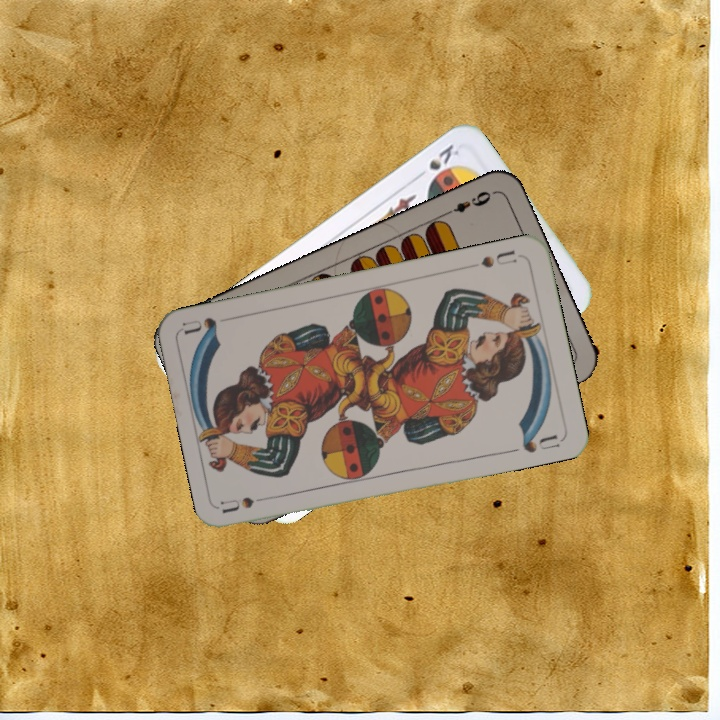E9: (440, 187, 494, 218)
SK: (411, 140, 462, 182)
SU: (218, 491, 278, 515), (477, 245, 519, 271)
